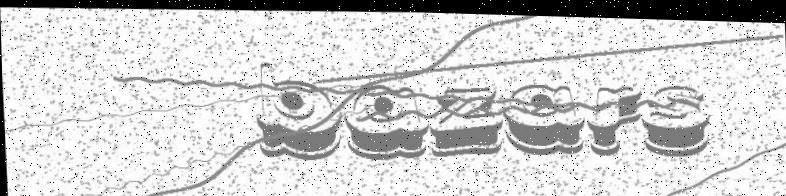a: (341, 80, 430, 159), (502, 78, 585, 153)
b: (251, 57, 341, 159)
r: (584, 80, 643, 153)
s: (639, 78, 712, 154)
z: (426, 81, 505, 155)
